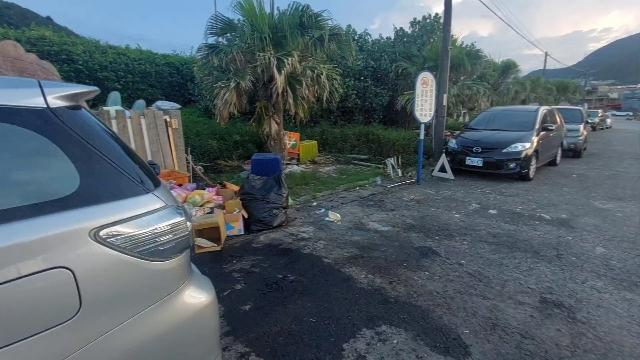pollute: (160, 152, 291, 253), (284, 131, 318, 171), (384, 154, 415, 189), (326, 211, 341, 221)
